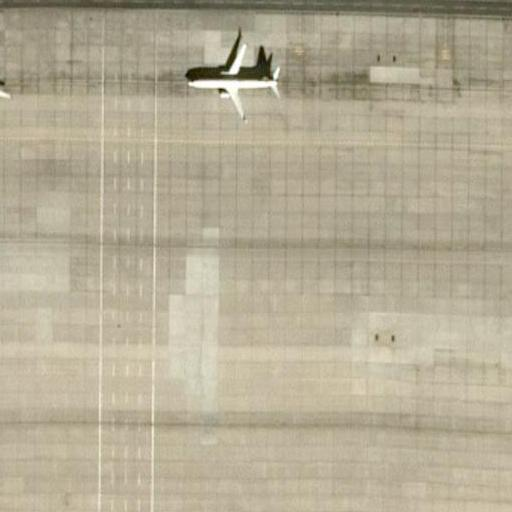Aircraft: (172, 28, 281, 114), (0, 14, 9, 139)
